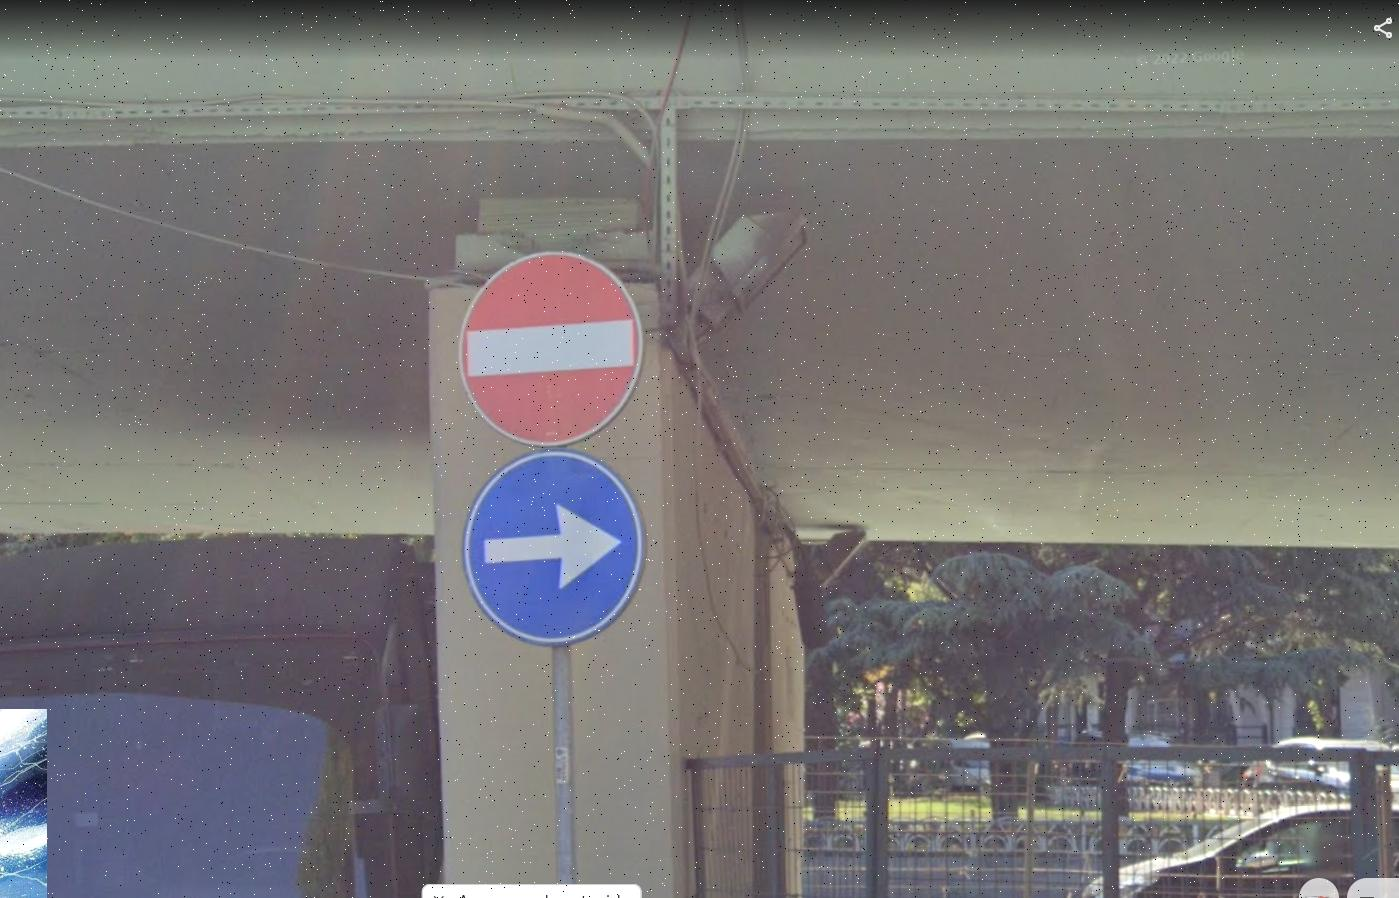turnright: (469, 458, 638, 631)
